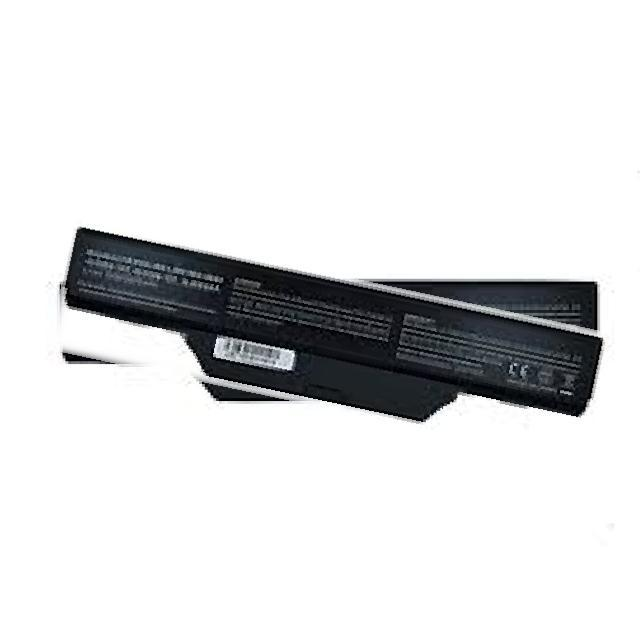Battery: (62, 227, 610, 431)
